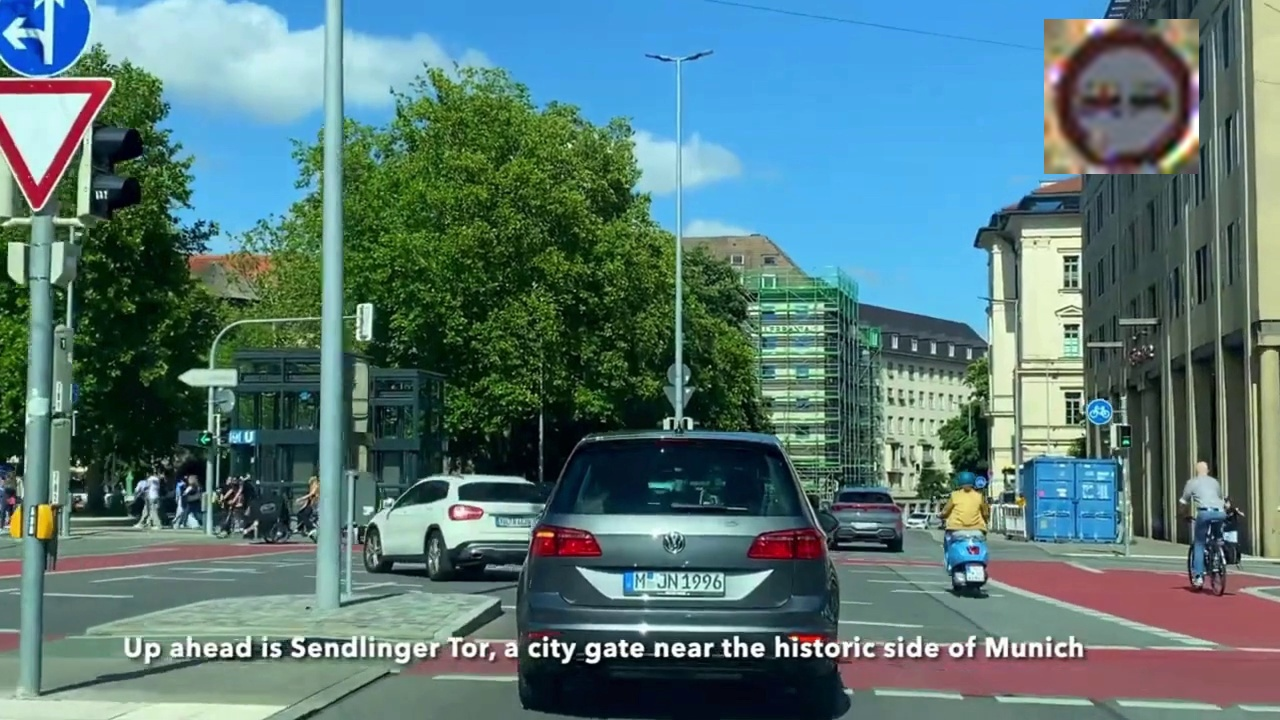No passing: (1044, 19, 1199, 174)
